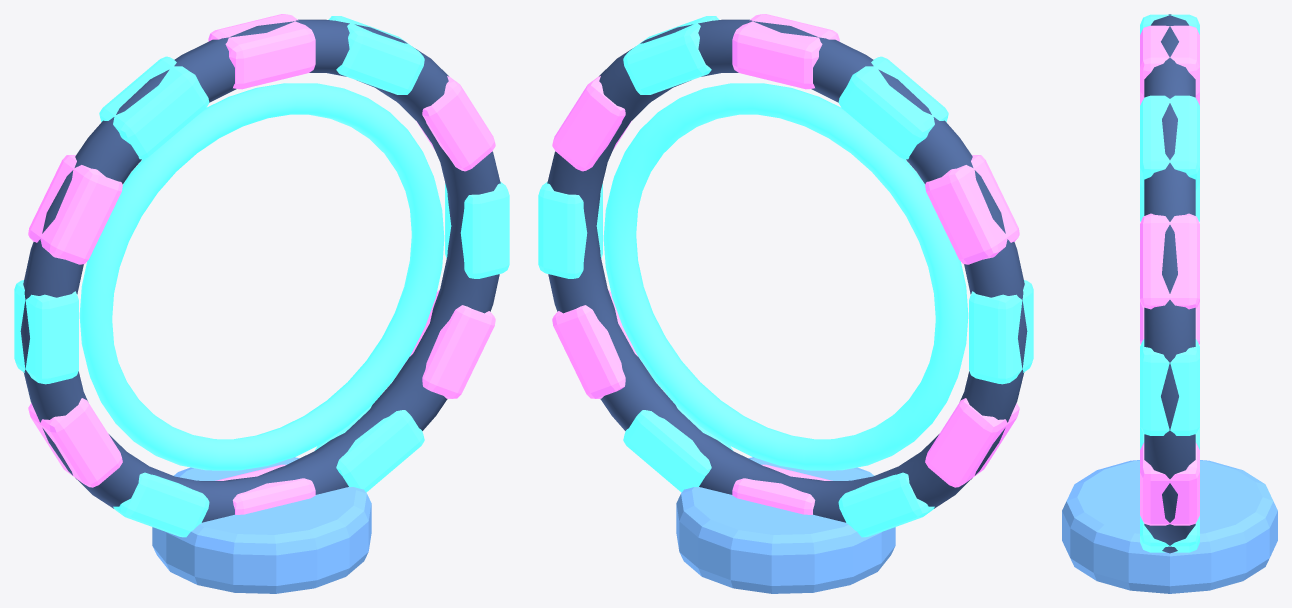
File: exit_portal.glb
3 renders of one model, left to right at view 1: azimuth 30°, elevation 25°; view 2: azimuth 150°, elevation 25°; view 3: azimuth 270°, elevation 25°, orthographic. The views are drawn at different scales.
Visible parts, largest first — view 1: exit_portal_MobileMesh; view 2: exit_portal_MobileMesh; view 3: exit_portal_MobileMesh.
Boxes of the visible parts, left/top/right/bottom form: exit_portal_MobileMesh: left=14, top=14, right=509, bottom=593; exit_portal_MobileMesh: left=538, top=14, right=1033, bottom=593; exit_portal_MobileMesh: left=1062, top=14, right=1277, bottom=593.
Bounding box in the file's own units: 3.6 × 3.79 × 1.44.
